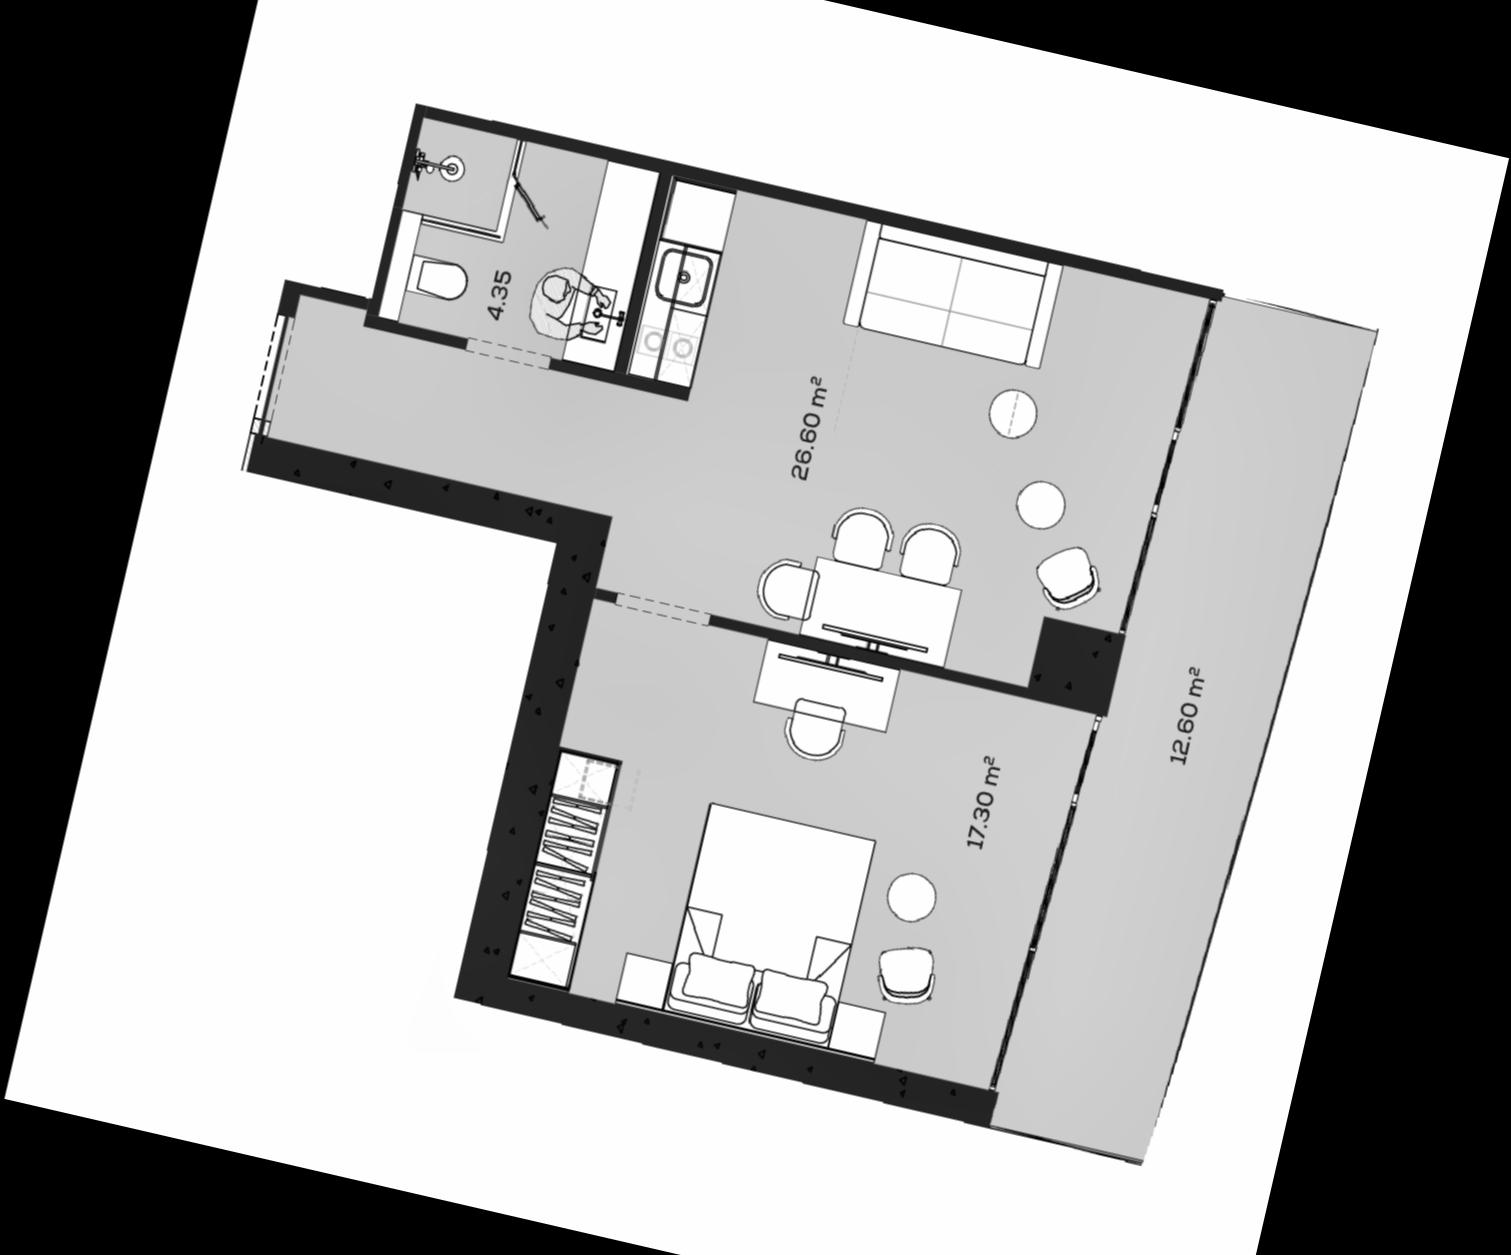door: (238, 305, 302, 446), (488, 169, 558, 254), (606, 582, 718, 634), (458, 328, 561, 375)
